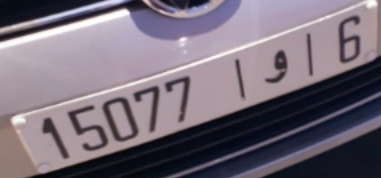0: (103, 95, 139, 142)
1: (38, 115, 70, 163)
5: (67, 103, 108, 154)
6: (333, 13, 365, 66)
7: (132, 84, 165, 135), (162, 72, 193, 122)
waw: (264, 47, 291, 86)
